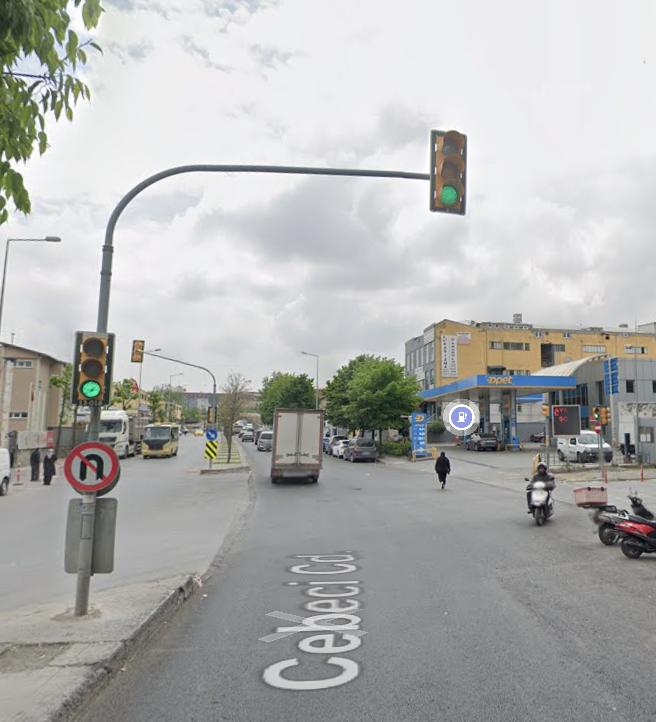greenlight: (434, 129, 464, 209), (77, 329, 106, 400)
